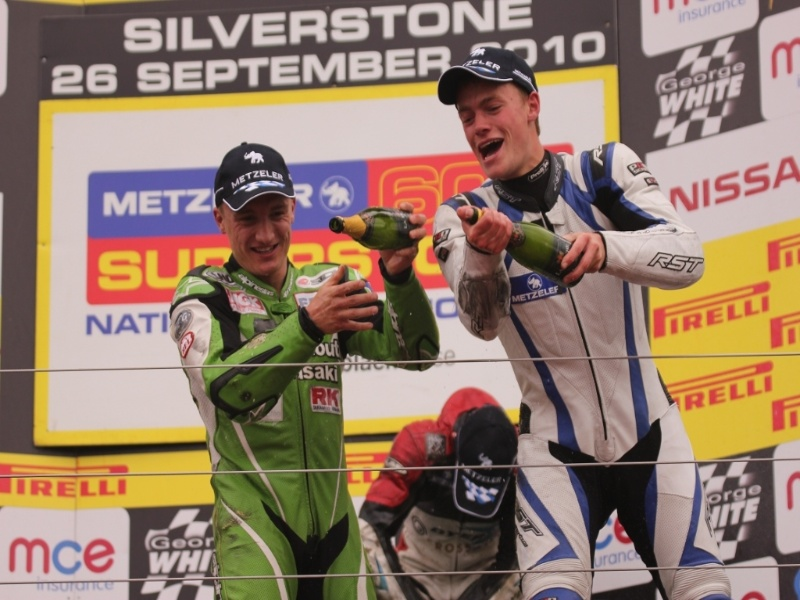person: (426, 42, 733, 600), (187, 128, 375, 600), (379, 384, 520, 600)
